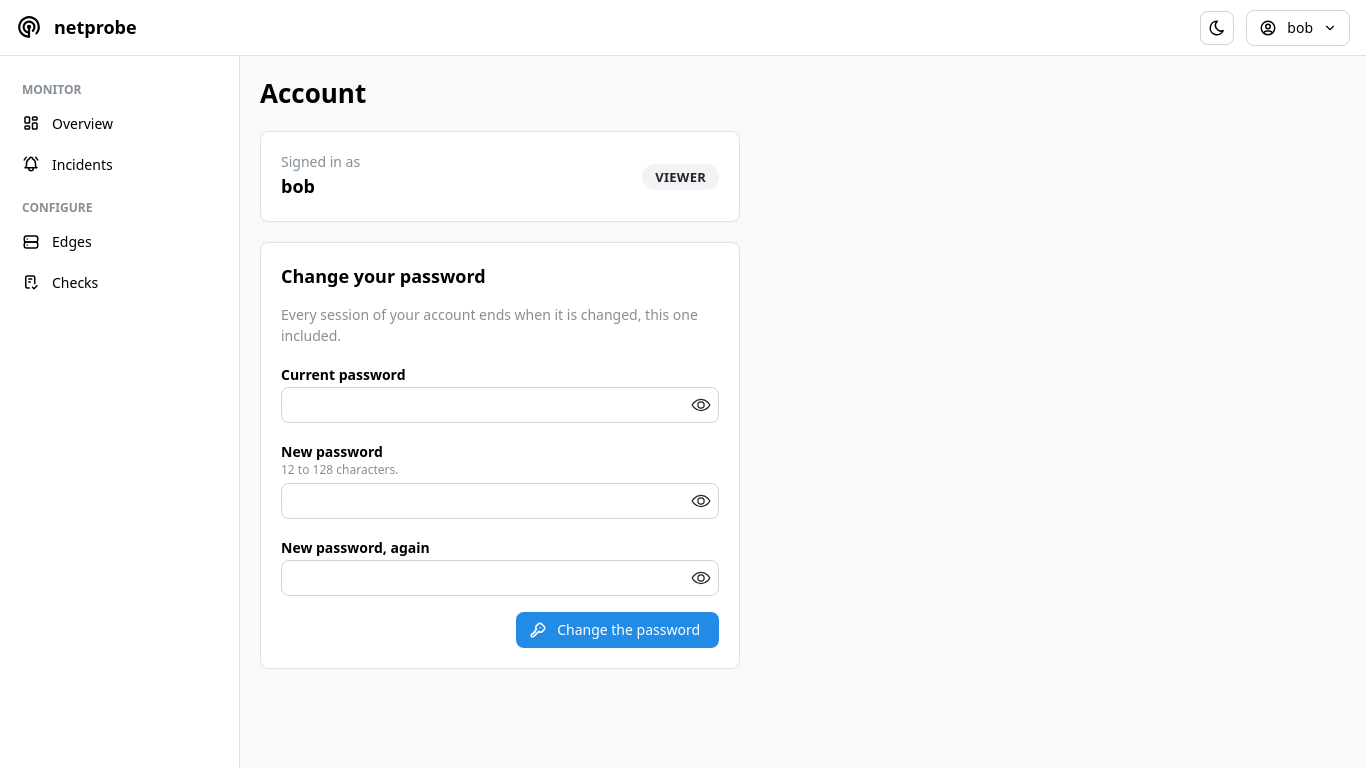
Test case: the account › shows the central's refusal when the current password is wrong
Type "nope" into the password field labelled "Current password" at (500, 405), box [282,388,718,422]
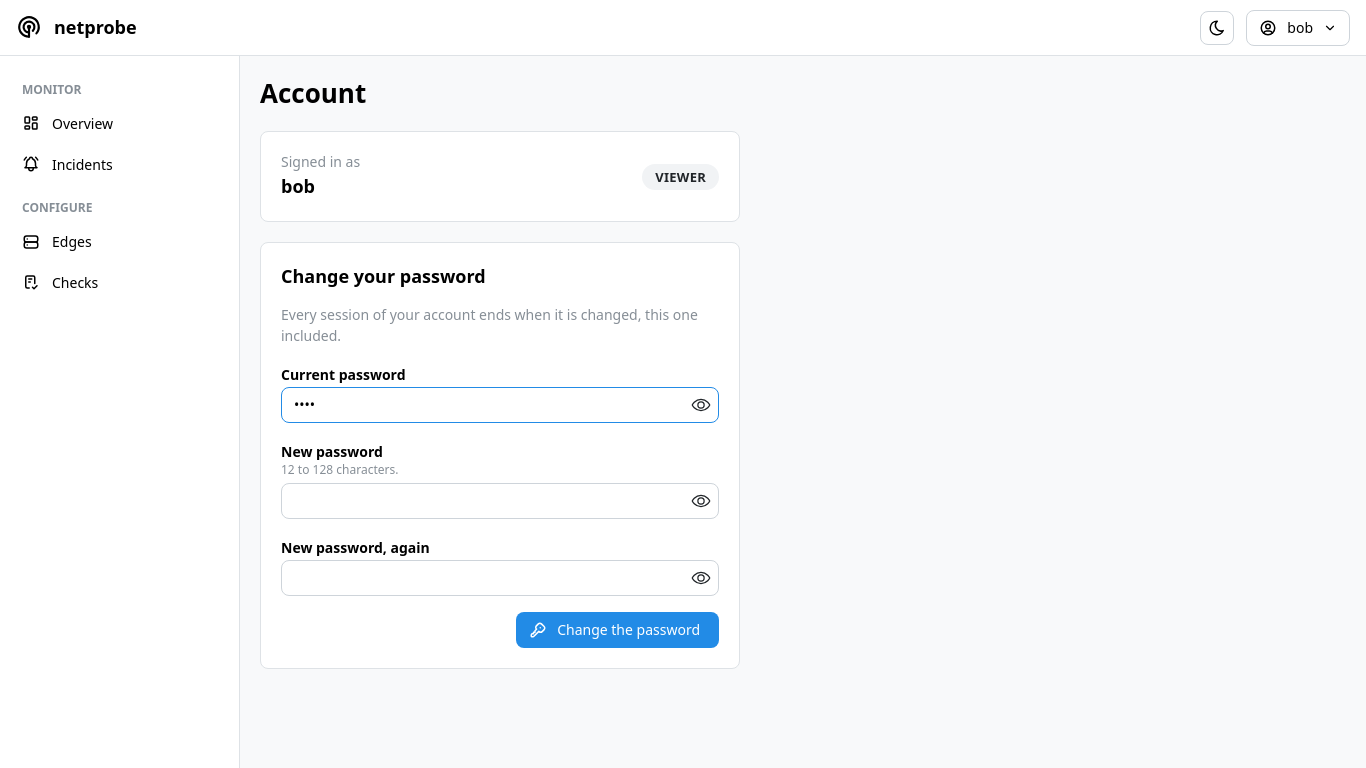
Type "a brand new password" into the password field labelled "New password" at (500, 501), box [282,484,718,518]
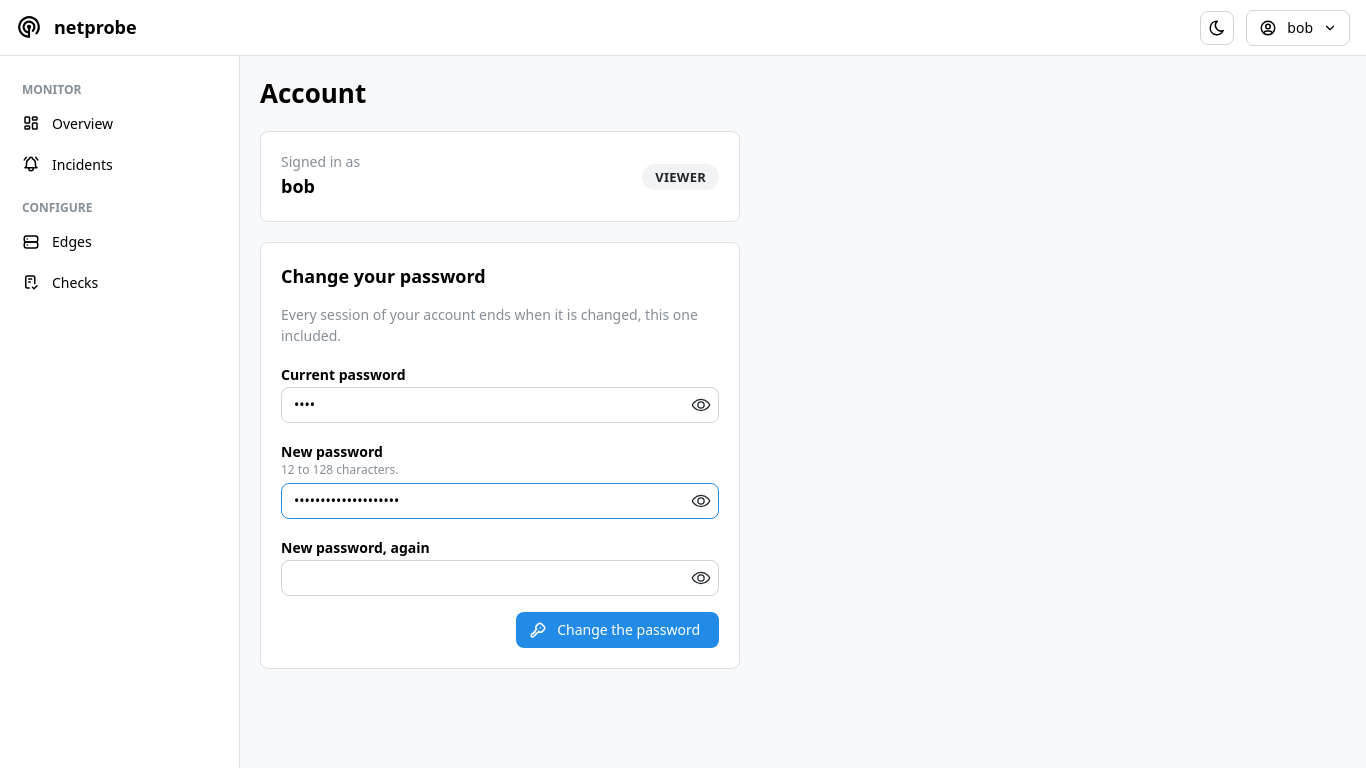
Type "a brand new password" into the password field labelled "New password, again" at (500, 578), box [282,561,718,595]
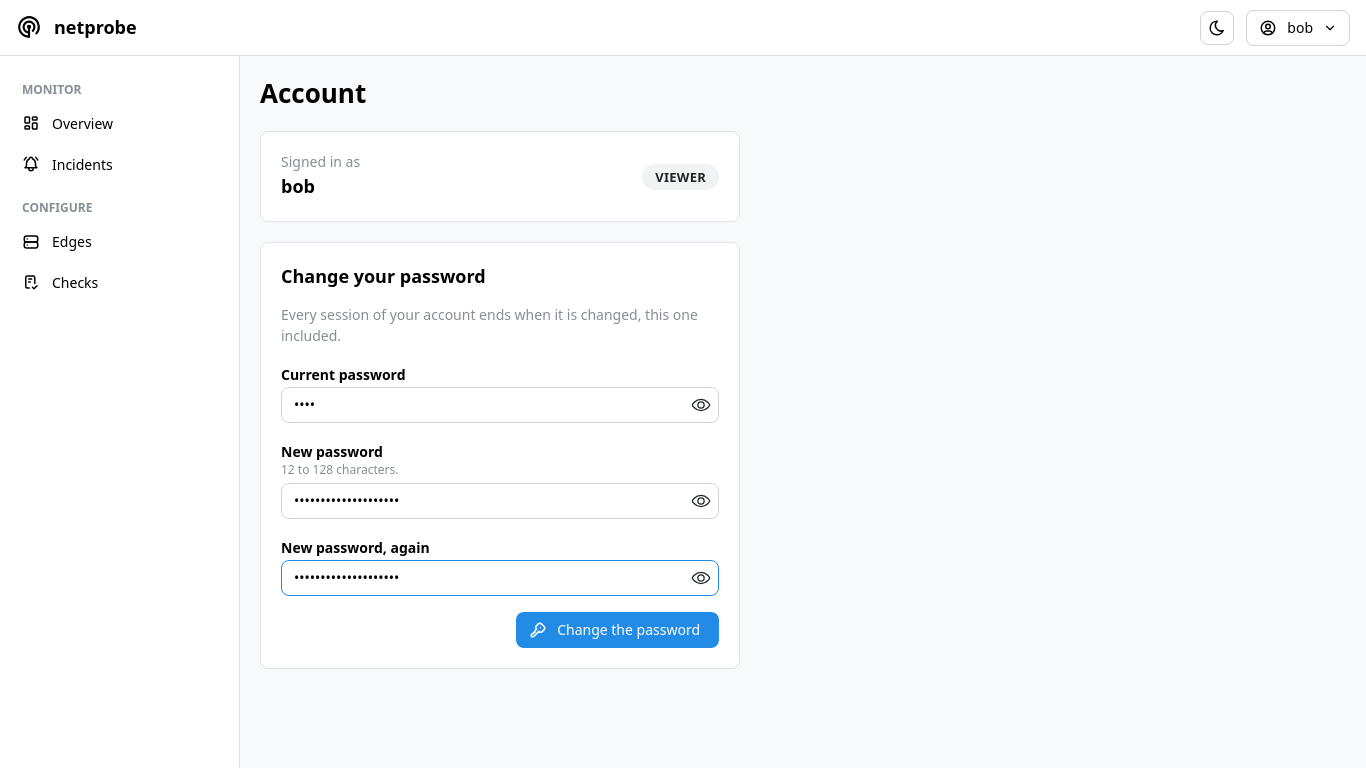
Click the button "Change the password" at (618, 630), box [516,612,719,648]
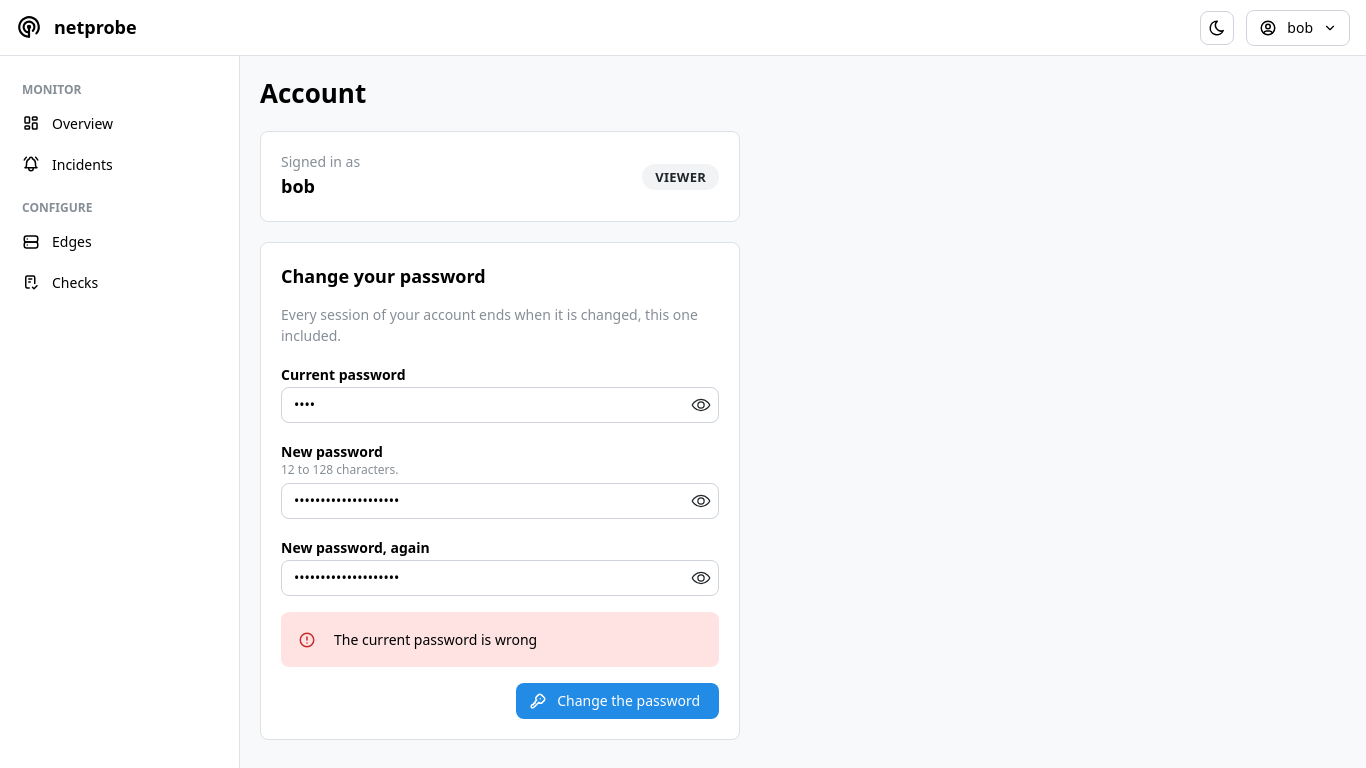
Expected: the heading "Account" is shown, [260,76,366,111]
Expected: the text "The current password is wrong" is shown, [334,630,537,649]
